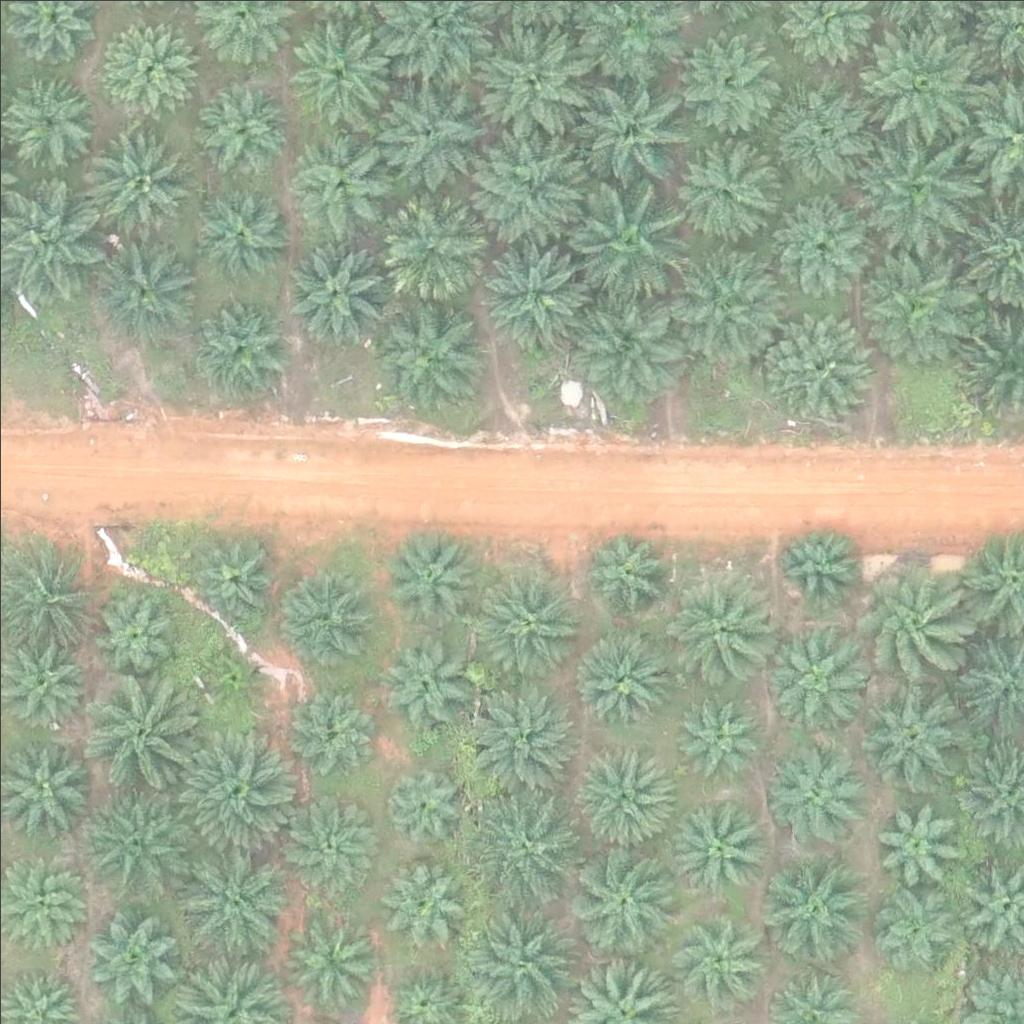Kelapa_Sawit: (846, 553, 971, 679), (372, 300, 485, 414), (474, 236, 587, 350), (474, 27, 587, 141), (858, 26, 971, 140), (83, 677, 196, 791), (460, 905, 573, 1019), (376, 187, 489, 300), (478, 123, 591, 236), (568, 186, 681, 299), (761, 305, 874, 418), (863, 244, 976, 357), (85, 231, 197, 345), (288, 120, 400, 234), (374, 76, 486, 190), (665, 247, 777, 361), (473, 564, 585, 678), (575, 73, 687, 186), (571, 285, 683, 398), (771, 77, 883, 190), (861, 129, 973, 242), (81, 785, 193, 898), (176, 843, 288, 956), (179, 732, 291, 845), (470, 787, 582, 900), (462, 675, 574, 788), (568, 843, 680, 956), (658, 569, 770, 682), (859, 677, 971, 790), (190, 295, 290, 396), (287, 237, 387, 338), (289, 17, 389, 118), (675, 144, 775, 245), (773, 203, 873, 304), (82, 582, 182, 683), (87, 902, 187, 1003), (274, 564, 374, 665), (380, 520, 480, 621), (569, 629, 669, 730), (664, 904, 764, 1005), (668, 793, 768, 894), (764, 853, 864, 954), (767, 744, 867, 845), (88, 126, 188, 226), (100, 14, 200, 114), (192, 77, 292, 177), (189, 182, 289, 282), (676, 34, 776, 134), (570, 747, 670, 847), (762, 622, 862, 722), (285, 802, 373, 890), (376, 851, 464, 939), (380, 757, 468, 845), (580, 519, 668, 607), (189, 535, 276, 624), (669, 690, 756, 779), (5, 81, 92, 169), (281, 906, 368, 994), (288, 686, 375, 774), (381, 640, 468, 728), (774, 519, 861, 607), (870, 883, 957, 971), (873, 795, 960, 883), (197, 643, 260, 706)
